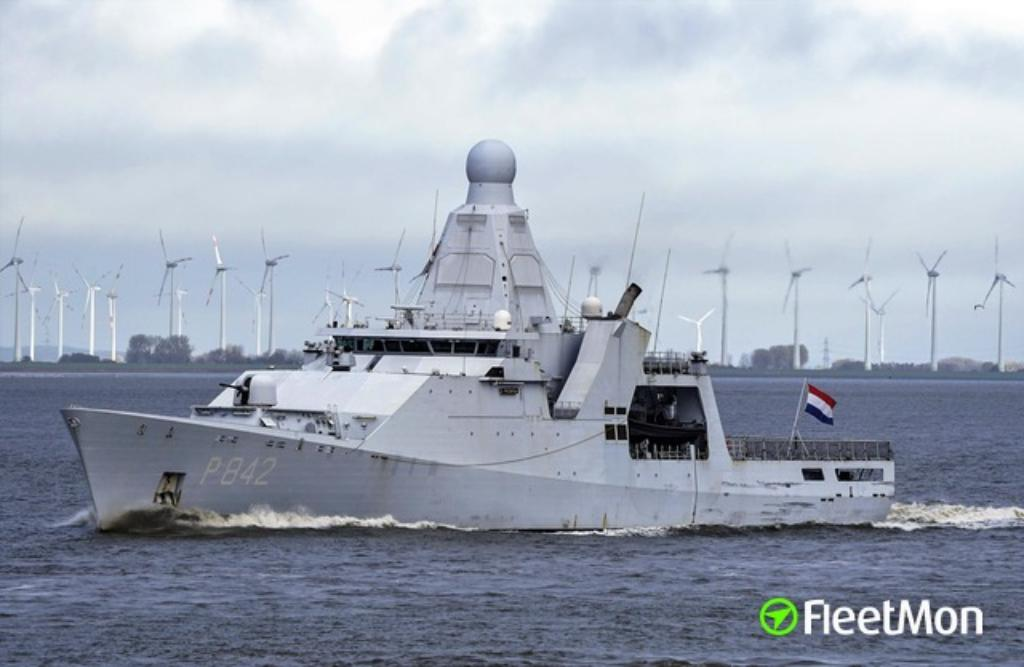Warship: (56, 139, 894, 532)
